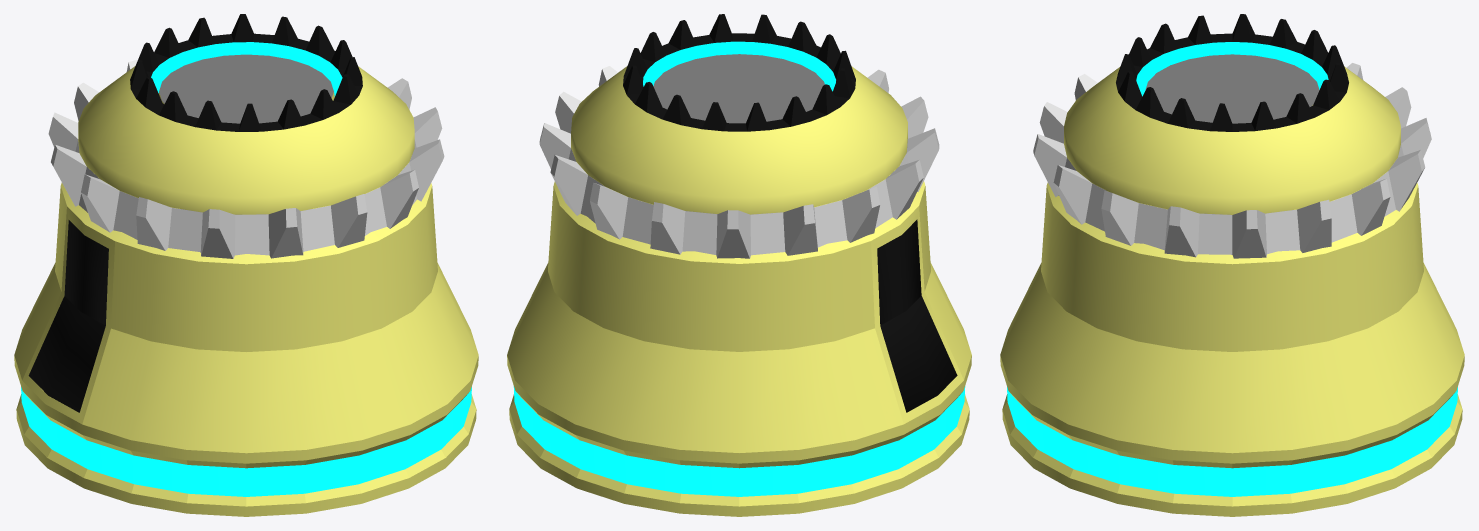
Rendered from Drill Static.fbx.
3 renders of one model, left to right at view 1: azimuth 30°, elevation 25°; view 2: azimuth 150°, elevation 25°; view 3: azimuth 270°, elevation 25°, orthographic.
Parts seen in each view (by area): view 1: Cone001, Upper Drill Bits, Lower Drill Bits, Door; view 2: Cone001, Upper Drill Bits, Lower Drill Bits, Door; view 3: Cone001, Upper Drill Bits, Lower Drill Bits.
Part boxes in pixels (left/top/right/bottom): Cone001: left=14, top=54, right=478, bottom=516; Upper Drill Bits: left=78, top=14, right=414, bottom=214; Lower Drill Bits: left=48, top=59, right=444, bottom=258; Door: left=28, top=220, right=108, bottom=412; Cone001: left=507, top=54, right=971, bottom=516; Upper Drill Bits: left=571, top=14, right=907, bottom=214; Lower Drill Bits: left=539, top=66, right=939, bottom=258; Door: left=877, top=219, right=957, bottom=412; Cone001: left=1000, top=54, right=1464, bottom=516; Upper Drill Bits: left=1064, top=14, right=1400, bottom=214; Lower Drill Bits: left=1033, top=63, right=1431, bottom=258.
Bounding box in the file's own units: 231 × 197 × 231.
